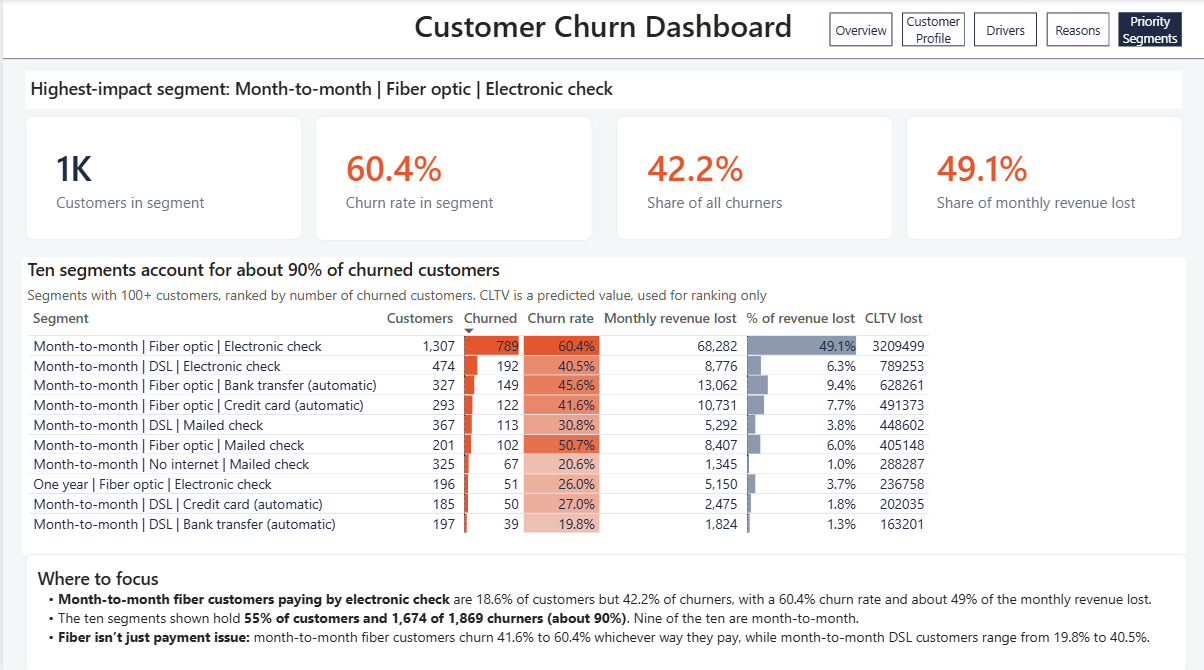

The dashboard page shown, as its layout file describes it:
{"tool":"powerbi","page":{"name":"Priority Segments","canvas":[1280,720],"ordinal":4},"visuals":[{"type":"shape","box":[0,0,1280,64],"z":0},{"type":"textbox","box":[0,0,1279,63],"z":1000},{"type":"pageNavigator","box":[880,14,376,36],"z":2000},{"type":"textbox","box":[24,76,1232,40],"z":2001},{"type":"cardVisual","fields":{"Data":["Customers.Customers Count"]},"box":[24.6,124.7,294.8,132.3],"z":2002},{"type":"cardVisual","fields":{"Data":["Customers.Churn Rate"]},"box":[332.3,124.6,295.6,132.6],"z":2003},{"type":"cardVisual","fields":{"Data":["Customers.Share of Churners"]},"box":[653.9,124.7,294.8,132.3],"z":2004},{"type":"cardVisual","fields":{"Data":["Customers.Share of Churned Revenue"]},"box":[961.9,124.7,294.8,132.3],"z":2005},{"type":"tableEx","title":"Ten segments account for about 90% of churned customers","fields":{"Values":["Customers.Segment Name","Customers.Customers Count","Customers.Churned Customers","Customers.Churn Rate","Customers.Churned Monthly Revenue","Customers.Share of Churned Revenue","Customers.CLTV of Churned"]},"box":[20.8,274,1237.8,317.5],"z":2006},{"type":"textbox","box":[24.6,591.5,1237,128.5],"z":2007}]}

Visuals, with their boxes in screenshot pixels (x1, y1, x2, y2), scaled from the page's 1280x720 canvas onto the 1204x670 screenshot:
shape: 0, 0, 1203, 60
textbox: 0, 0, 1203, 59
pageNavigator: 828, 13, 1181, 47
textbox: 23, 71, 1181, 108
cardVisual - Customers.Customers Count: 23, 116, 300, 239
cardVisual - Customers.Churn Rate: 313, 116, 591, 239
cardVisual - Customers.Share of Churners: 615, 116, 892, 239
cardVisual - Customers.Share of Churned Revenue: 905, 116, 1182, 239
"Ten segments account for about 90% of churned customers" tableEx: 20, 255, 1184, 550
textbox: 23, 550, 1187, 669
